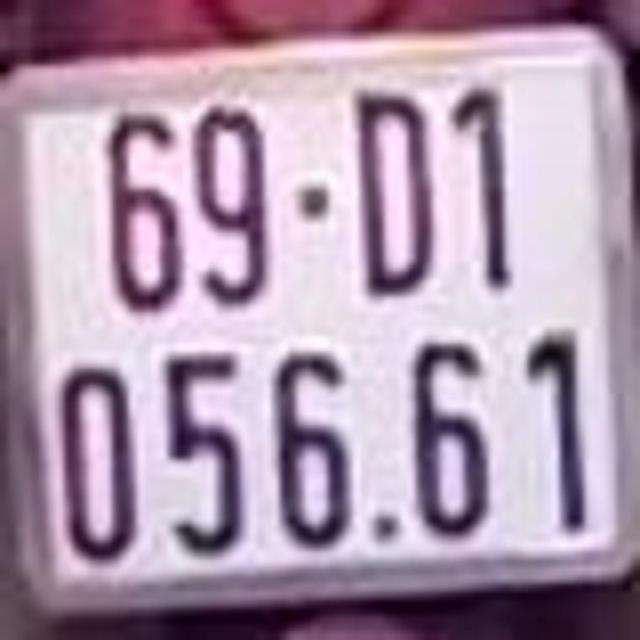0: (59, 367, 141, 562)
1: (447, 70, 522, 292), (523, 318, 597, 536)
5: (165, 345, 243, 562)
6: (268, 342, 358, 548), (408, 330, 491, 541), (101, 103, 184, 314)
9: (188, 97, 274, 313)
D: (342, 78, 438, 300)
